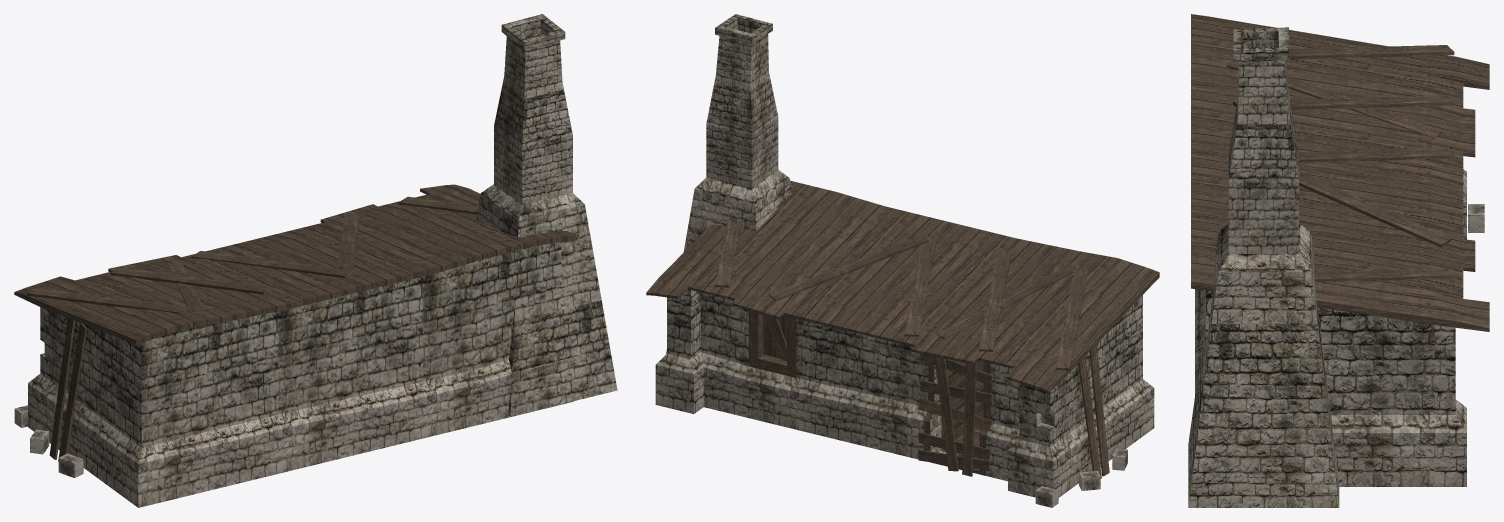
The model's file is f1_shack01.dae.
3 views of the same model, side by side, from view 1: azimuth 30°, elevation 25°; view 2: azimuth 150°, elevation 25°; view 3: azimuth 270°, elevation 25° (orthographic). The views are drawn at different scales.
Visible parts, largest first — view 1: f1_shack01_Layer1; view 2: f1_shack01_Layer1; view 3: f1_shack01_Layer1.
Boxes of the visible parts, bbox=[...] form: f1_shack01_Layer1: bbox=[14, 14, 617, 507]; f1_shack01_Layer1: bbox=[646, 14, 1159, 507]; f1_shack01_Layer1: bbox=[1188, 14, 1489, 507].
Bounding box in the file's own units: 9.56 × 6.57 × 4.04.
